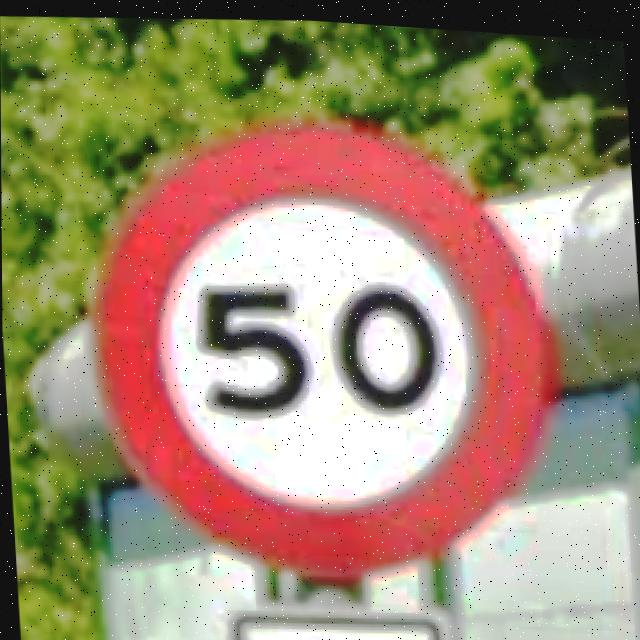max50: (72, 80, 569, 600)
